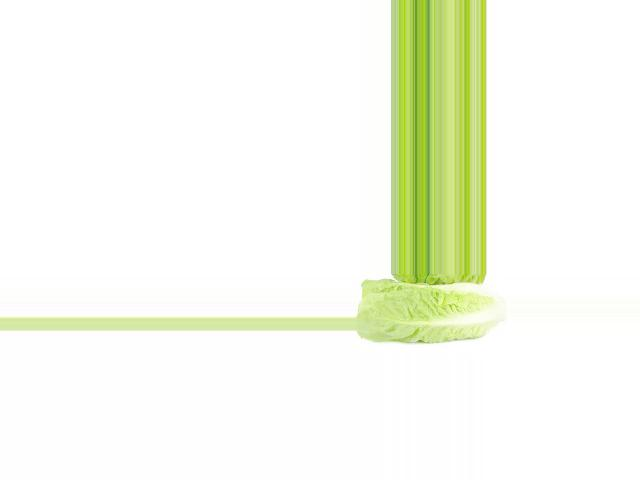lettuce: (355, 281, 505, 353)
